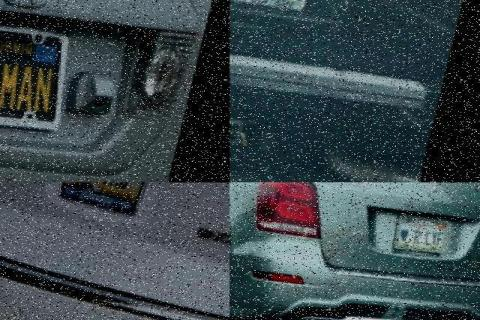LicensePlate: (0, 13, 88, 131), (60, 183, 154, 227), (230, 0, 326, 31), (394, 209, 455, 251)
